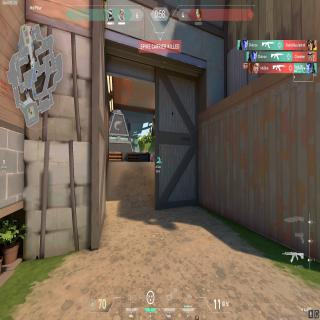ENEMY-BODY: (31, 27, 34, 38), (151, 154, 153, 162)
ENEMY-HEAD: (152, 154, 152, 156)
